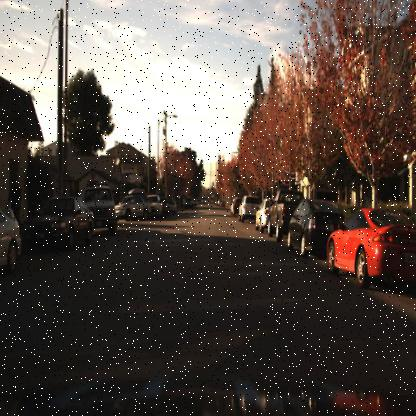car: (326, 207, 416, 289), (18, 194, 93, 255), (284, 197, 346, 260), (82, 180, 118, 238), (264, 188, 296, 242), (113, 186, 150, 223), (114, 187, 152, 217), (238, 191, 261, 225), (253, 196, 268, 236), (148, 191, 165, 220)
